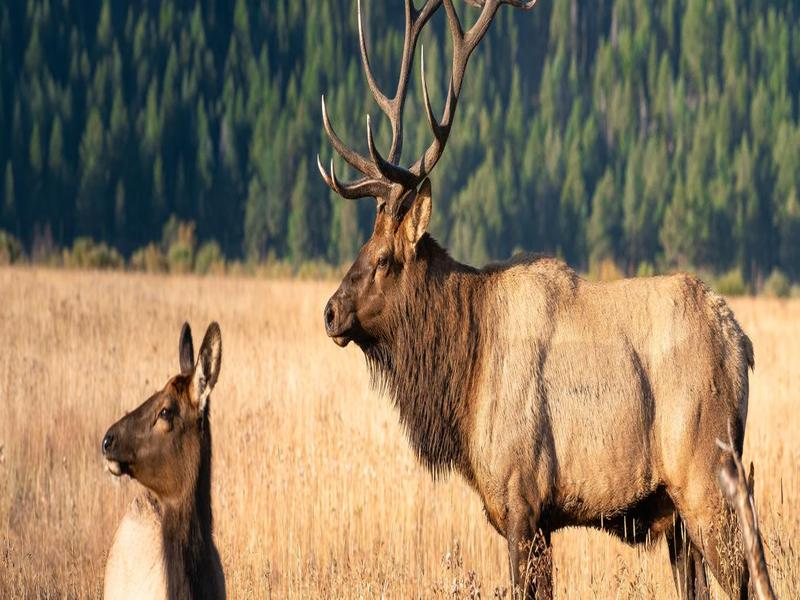elk: (315, 1, 774, 600), (95, 313, 230, 600)
